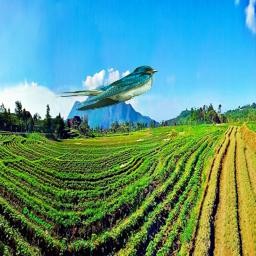Swallow: (55, 65, 158, 111)
